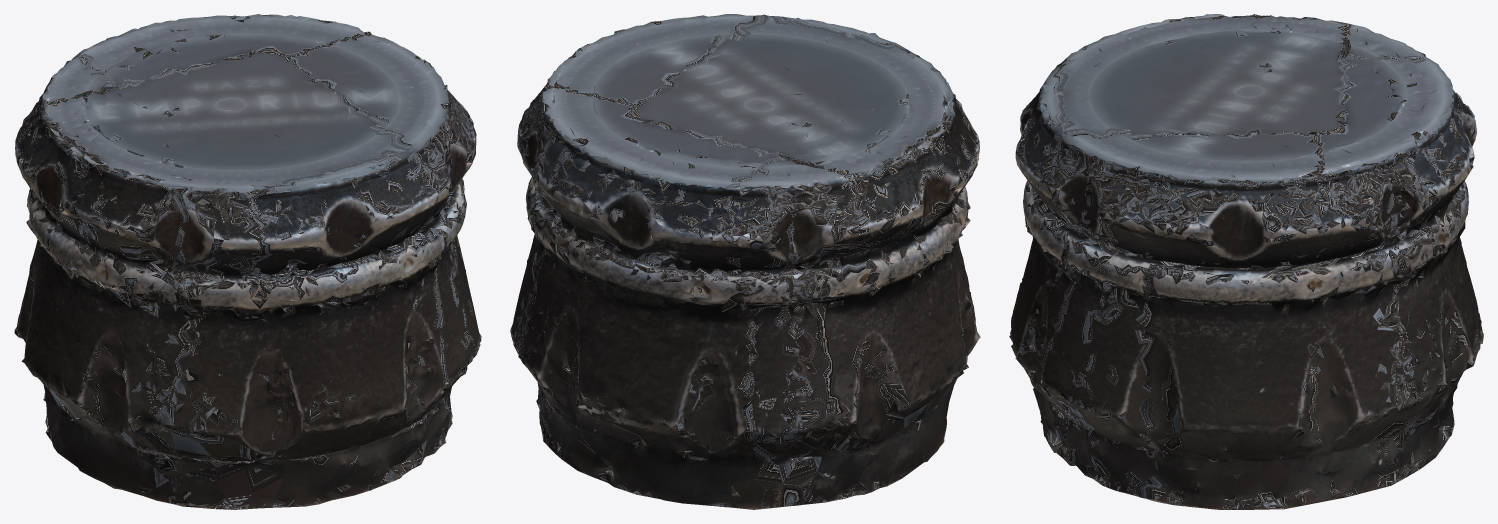
The picture shows the model from 3 angles, left to right: view 1: azimuth 30°, elevation 25°; view 2: azimuth 150°, elevation 25°; view 3: azimuth 270°, elevation 25°; orthographic projection.
Parts seen in each view (by area): view 1: deckel, koerper; view 2: deckel, koerper; view 3: deckel, koerper.
Boxes of the visible parts, x1=… form: deckel: x1=15, y1=14, x2=476, y2=325; koerper: x1=14, y1=235, x2=481, y2=509; deckel: x1=517, y1=14, x2=979, y2=324; koerper: x1=510, y1=234, x2=980, y2=509; deckel: x1=1015, y1=14, x2=1476, y2=325; koerper: x1=1009, y1=237, x2=1483, y2=509.
Size of the model in its own units: 0.0594 by 0.0466 by 0.06.
Materials: 1 (1 with a texture image).
